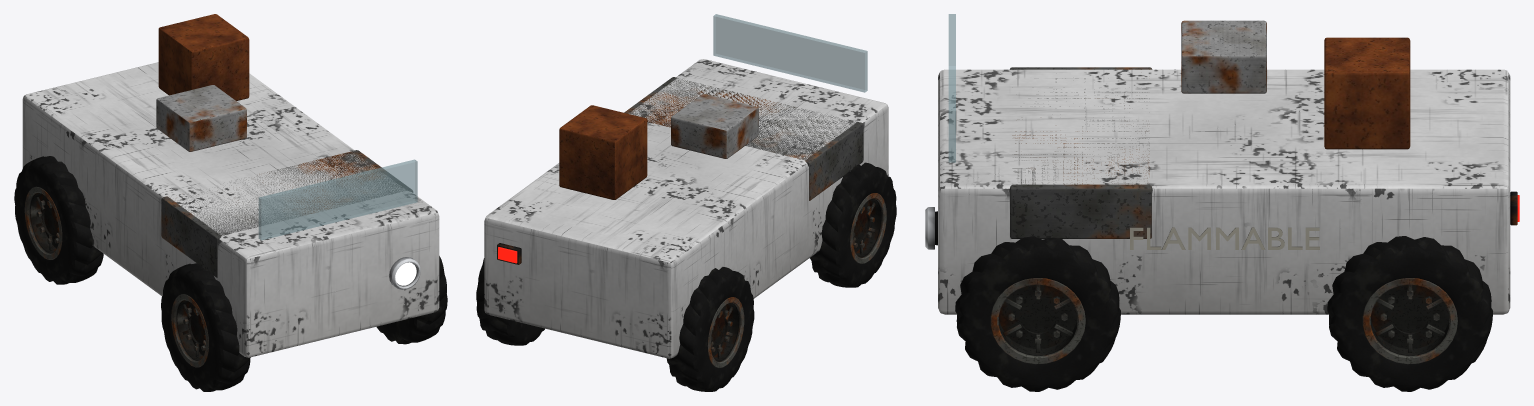
3 views of the same model, side by side, from view 1: azimuth 30°, elevation 25°; view 2: azimuth 150°, elevation 25°; view 3: azimuth 270°, elevation 25° (orthographic). The views are drawn at different scales.
Visible parts, largest first — view 1: body, wheel_RR, wheel_FR, wheel_FL; view 2: body, wheel_RR, wheel_FR, wheel_RL; view 3: body, wheel_RL, wheel_FL.
Part boxes in pixels (x1,y1,x2,y2): body: (22, 14, 439, 357); wheel_RR: (14, 156, 103, 284); wheel_FR: (161, 263, 250, 391); wheel_FL: (376, 256, 447, 344); body: (484, 14, 888, 358); wheel_RR: (666, 267, 754, 391); wheel_FR: (810, 162, 896, 287); wheel_RL: (476, 258, 544, 345); body: (925, 14, 1519, 314); wheel_RL: (1327, 236, 1492, 391); wheel_FL: (955, 236, 1120, 391).
Bounding box in the file's own units: 2.36 × 2.23 × 4.15.
Materials: 12 (7 with a texture image).
